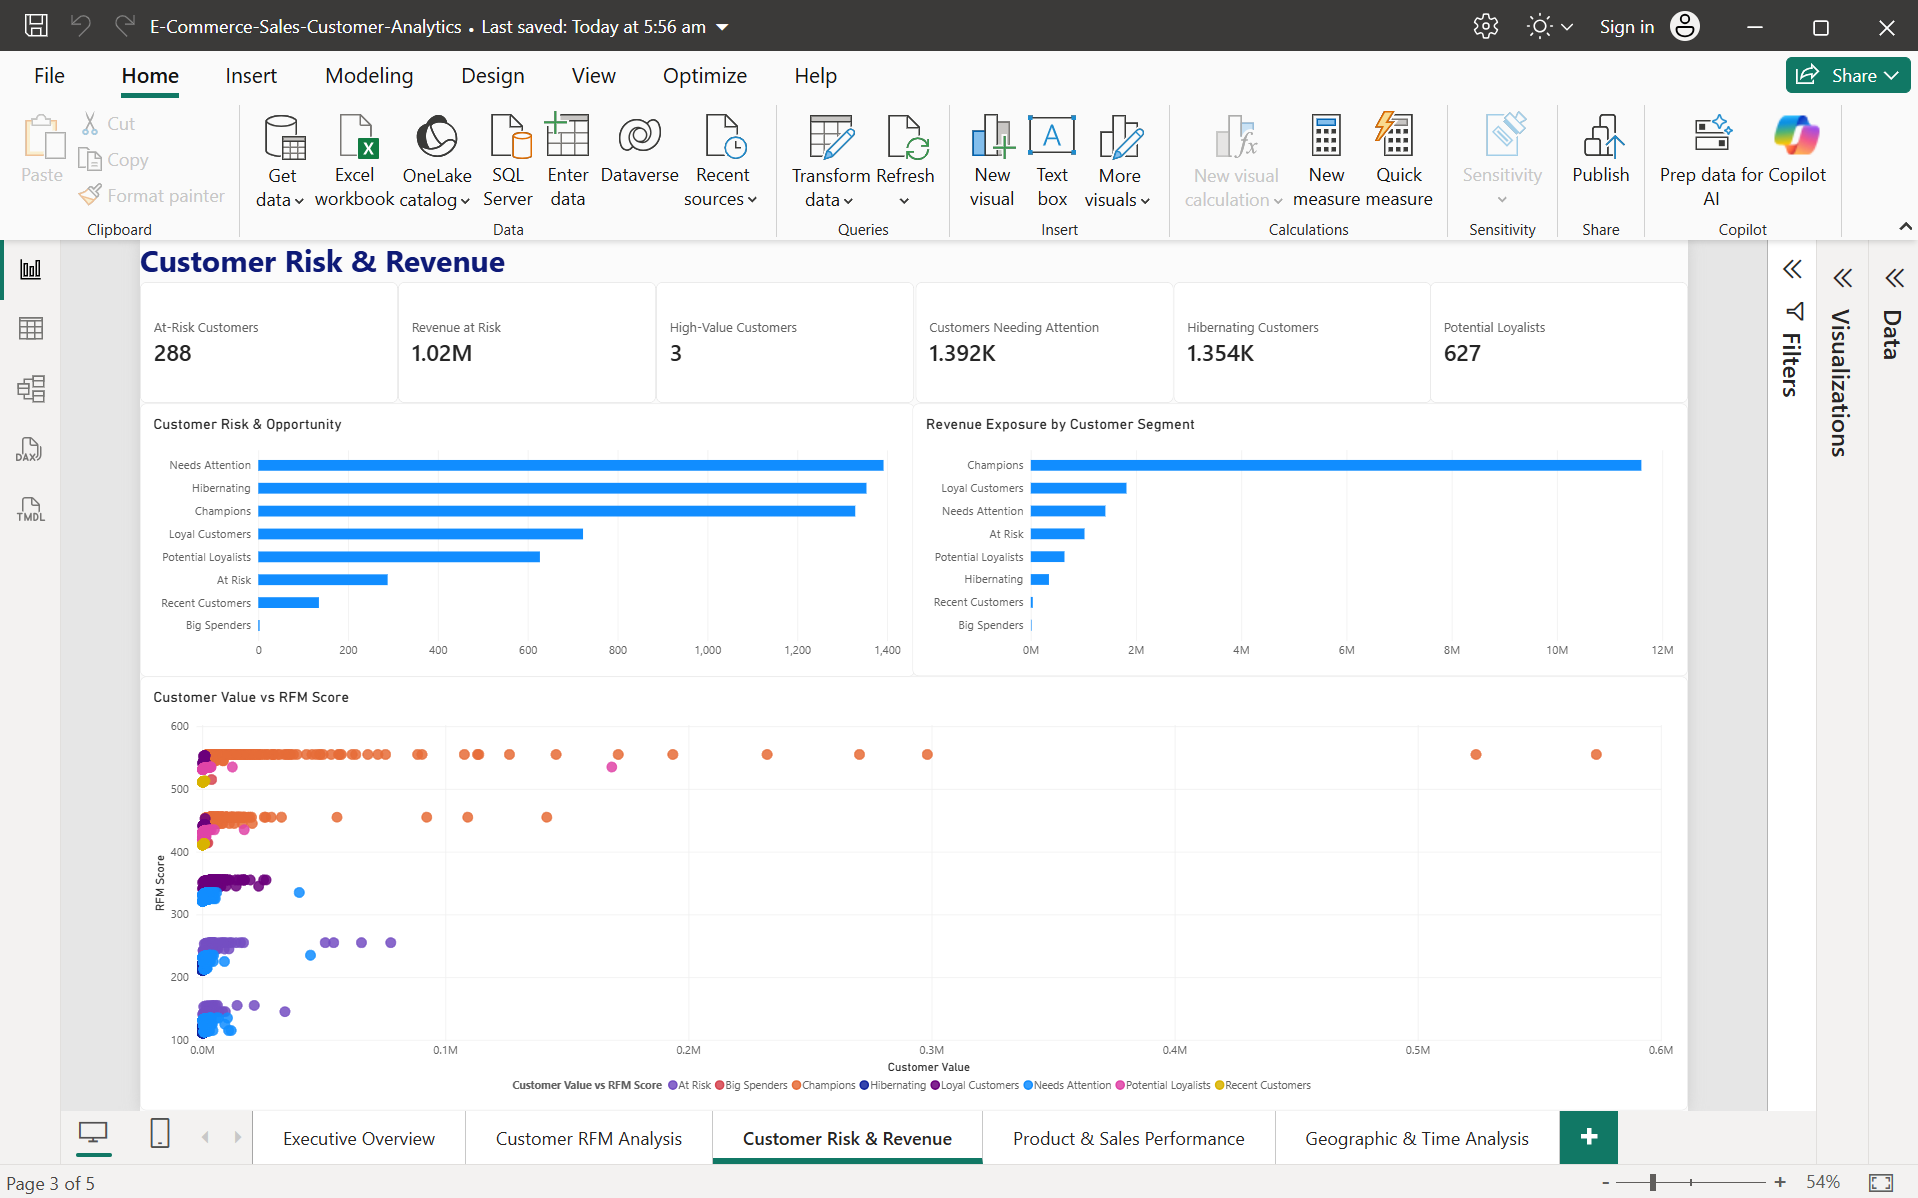

What the dashboard file says about the page in this screenshot:
{"tool":"powerbi","page":{"name":"Customer Risk & Revenue","canvas":[1920,1080],"ordinal":2},"visuals":[{"type":"textbox","box":[0,0,1919.3,52.2],"z":0},{"type":"cardVisual","fields":{"Data":["Count(ecommerce_analytics rfm_customer_dashboard.customer_id)"]},"box":[0,52.2,320,150],"z":1},{"type":"cardVisual","fields":{"Data":["Sum(ecommerce_analytics rfm_customer_dashboard.monetary)"]},"box":[320.3,52.2,320,150],"z":2},{"type":"cardVisual","fields":{"Data":["Count(ecommerce_analytics rfm_customer_dashboard.customer_id)"]},"box":[640.5,52.2,320,150],"z":3},{"type":"cardVisual","fields":{"Data":["Count(ecommerce_analytics rfm_customer_dashboard.customer_id)"]},"box":[960.8,52.2,320,150],"z":4},{"type":"cardVisual","fields":{"Data":["Count(ecommerce_analytics rfm_customer_dashboard.customer_id)"]},"box":[1281,52.2,320,150],"z":5},{"type":"cardVisual","fields":{"Data":["Count(ecommerce_analytics rfm_customer_dashboard.customer_id)"]},"box":[1599,52.2,320,150],"z":6},{"type":"clusteredBarChart","title":"Customer Risk & Opportunity","fields":{"Category":["ecommerce_analytics rfm_customer_dashboard.customer_segment"],"Y":["Count(ecommerce_analytics rfm_customer_dashboard.customer_id)"]},"box":[0,202.1,960.8,338.4],"z":7},{"type":"clusteredBarChart","title":"Revenue Exposure by Customer Segment","fields":{"Category":["ecommerce_analytics rfm_customer_dashboard.customer_segment"],"Y":["Sum(cleaned_sales.revenue)"]},"box":[958.5,202.1,961,338],"z":8},{"type":"scatterChart","title":"Customer Value vs RFM Score","fields":{"Category":["ecommerce_analytics rfm_customer_dashboard.customer_id"],"Series":["ecommerce_analytics rfm_customer_dashboard.customer_segment"],"X":["Sum(ecommerce_analytics rfm_customer_dashboard.monetary)"],"Y":["Sum(ecommerce_analytics rfm_customer_dashboard.rfm_score)"]},"box":[0,540.6,1919.3,538.3],"z":9}]}

Visuals, with their boxes on the page's 1920x1080 design canvas (x1, y1, x2, y2). These are canvas units, not pixel positions in the 1918x1198 screenshot, which may show the page scaled, cropped or inside an application window:
textbox: 0,0,1919,52
cardVisual - Count(ecommerce_analytics rfm_customer_dashboard.customer_id): 0,52,320,202
cardVisual - Sum(ecommerce_analytics rfm_customer_dashboard.monetary): 320,52,640,202
cardVisual - Count(ecommerce_analytics rfm_customer_dashboard.customer_id): 640,52,960,202
cardVisual - Count(ecommerce_analytics rfm_customer_dashboard.customer_id): 961,52,1281,202
cardVisual - Count(ecommerce_analytics rfm_customer_dashboard.customer_id): 1281,52,1601,202
cardVisual - Count(ecommerce_analytics rfm_customer_dashboard.customer_id): 1599,52,1919,202
"Customer Risk & Opportunity" clusteredBarChart: 0,202,961,540
"Revenue Exposure by Customer Segment" clusteredBarChart: 958,202,1920,540
"Customer Value vs RFM Score" scatterChart: 0,541,1919,1079
